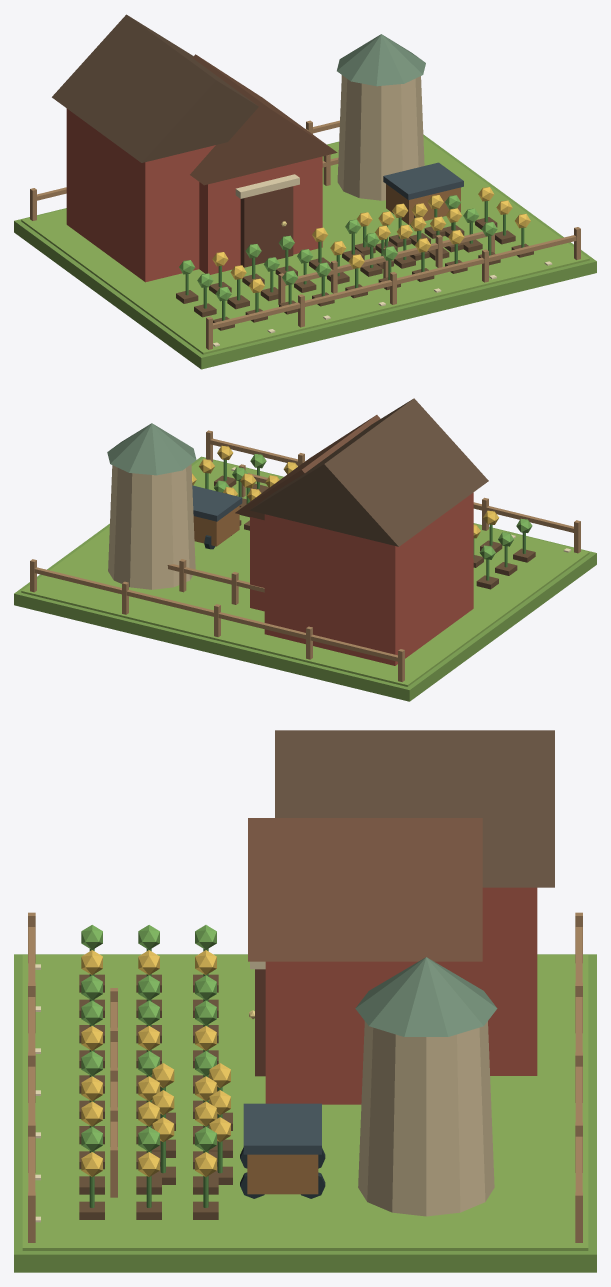
Rendered from farm-lv2.obj.
3 renders of one model, top to bottom at view 1: azimuth 30°, elevation 25°; view 2: azimuth 150°, elevation 25°; view 3: azimuth 270°, elevation 25°, orthographic. The views are drawn at different scales.
Visible parts, largest first — view 1: farm_1, farm_3, farm_12, farm_0, farm_13, farm_4, farm_11, farm_8, farm_10, farm_5, farm_14, farm_15 (+4 smaller); view 2: farm_3, farm_1, farm_12, farm_0, farm_13, farm_11, farm_14, farm_4, farm_8, farm_10, farm_17, farm_16 (+2 smaller); view 3: farm_1, farm_4, farm_12, farm_3, farm_13, farm_0, farm_10, farm_8, farm_14, farm_11, farm_15, farm_17 (+3 smaller).
Part boxes in pixels (bbox=[...]): farm_1: bbox=[21, 137, 589, 354]; farm_3: bbox=[66, 108, 322, 282]; farm_12: bbox=[52, 14, 258, 162]; farm_0: bbox=[14, 134, 596, 369]; farm_13: bbox=[337, 75, 424, 200]; farm_4: bbox=[190, 54, 337, 185]; farm_11: bbox=[30, 120, 580, 349]; farm_8: bbox=[176, 217, 533, 330]; farm_10: bbox=[212, 187, 530, 292]; farm_5: bbox=[240, 186, 293, 267]; farm_14: bbox=[337, 34, 425, 86]; farm_15: bbox=[179, 195, 497, 301]; farm_3: bbox=[250, 492, 473, 665]; farm_1: bbox=[21, 458, 589, 686]; farm_12: bbox=[249, 398, 488, 546]; farm_0: bbox=[14, 456, 596, 701]; farm_13: bbox=[108, 464, 195, 589]; farm_11: bbox=[30, 430, 580, 682]; farm_14: bbox=[107, 423, 196, 475]; farm_4: bbox=[235, 415, 380, 520]; farm_8: bbox=[214, 475, 535, 589]; farm_10: bbox=[192, 445, 499, 538]; farm_17: bbox=[192, 485, 242, 521]; farm_16: bbox=[193, 505, 239, 546]; farm_1: bbox=[22, 955, 588, 1250]; farm_4: bbox=[248, 818, 482, 961]; farm_12: bbox=[275, 730, 554, 887]; farm_3: bbox=[265, 887, 537, 1104]; farm_13: bbox=[358, 1021, 494, 1216]; farm_0: bbox=[14, 954, 596, 1272]; farm_10: bbox=[81, 950, 230, 1176]; farm_8: bbox=[79, 974, 232, 1219]; farm_14: bbox=[355, 957, 497, 1036]; farm_11: bbox=[28, 912, 582, 1242]; farm_15: bbox=[81, 925, 216, 1151]; farm_17: bbox=[243, 1103, 321, 1154].
Size of the model in its own units: 5 by 2.46 by 4.1.
